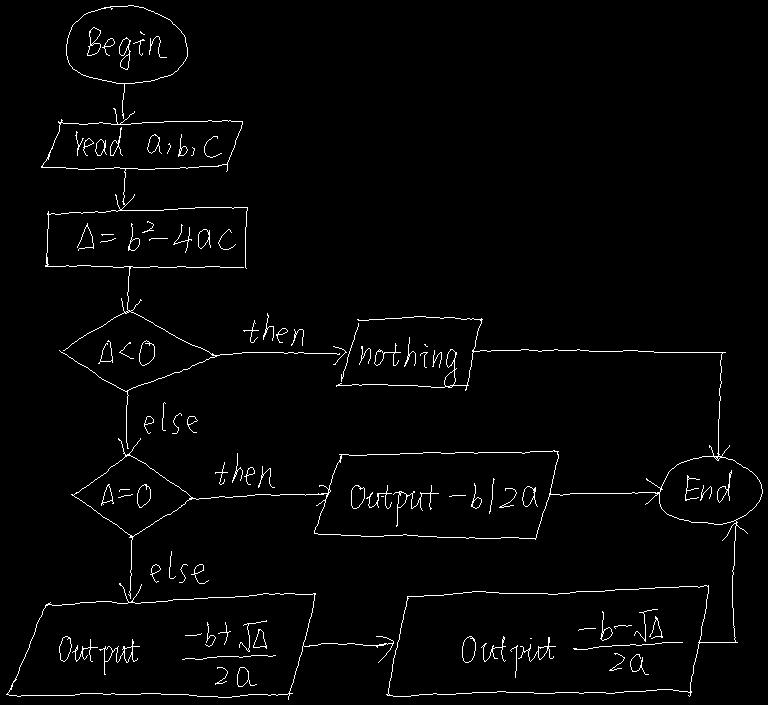arrow: (472, 349, 729, 460), (698, 521, 747, 642), (549, 478, 662, 504), (189, 485, 330, 505), (212, 346, 346, 364), (304, 636, 393, 662), (118, 390, 140, 455), (119, 537, 141, 602), (121, 267, 141, 313), (113, 84, 134, 124), (115, 169, 134, 209)
data: (386, 585, 708, 696), (6, 593, 315, 699), (314, 450, 558, 539), (336, 316, 482, 390), (41, 119, 242, 171)
decision: (59, 310, 216, 391), (71, 453, 194, 537)
process: (45, 207, 247, 268)
terminator: (66, 5, 187, 83), (659, 456, 762, 524)
text: (462, 609, 682, 677), (59, 620, 275, 686), (351, 478, 537, 526), (77, 221, 235, 252), (359, 337, 456, 387), (75, 127, 221, 157), (87, 27, 166, 69), (215, 453, 274, 487), (243, 313, 303, 345), (150, 551, 208, 583), (144, 402, 197, 433), (685, 470, 731, 502), (98, 340, 154, 365), (101, 484, 150, 507)
